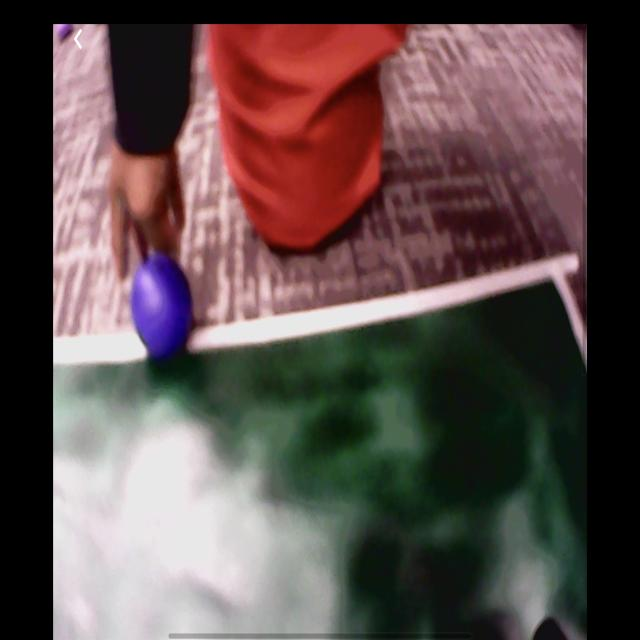ball: (130, 252, 193, 358), (56, 24, 74, 44)
